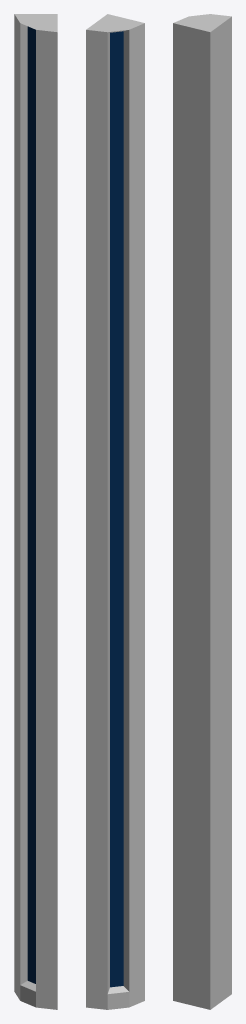
Rendered from Corner_Wall_Tall_Middle.fbx.
The picture shows the model from 3 angles, left to right: view 1: azimuth 90°, elevation 25°; view 2: azimuth 150°, elevation 25°; view 3: azimuth 330°, elevation 25°; orthographic projection.
Parts seen in each view (by area): view 1: Corner_Wall_Tall_Middle; view 2: Corner_Wall_Tall_Middle; view 3: Corner_Wall_Tall_Middle.
Part boxes in pixels (left/top/right/bottom): Corner_Wall_Tall_Middle: left=14, top=14, right=57, bottom=1009; Corner_Wall_Tall_Middle: left=86, top=14, right=144, bottom=1009; Corner_Wall_Tall_Middle: left=173, top=14, right=231, bottom=1009.
Bounding box in the file's own units: 0.2 × 0.2 × 5.
